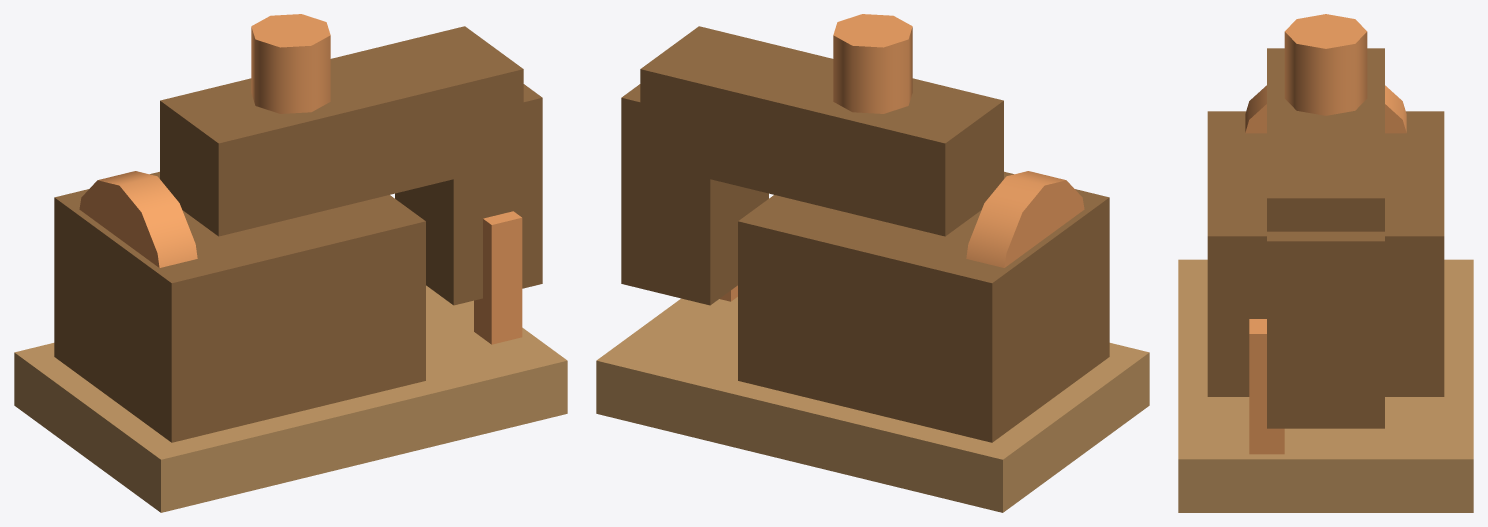
Rendered from sewing_machine.glb.
3 renders of one model, left to right at view 1: azimuth 30°, elevation 25°; view 2: azimuth 150°, elevation 25°; view 3: azimuth 270°, elevation 25°, orthographic.
Visible parts, largest first — view 1: sewing_machine; view 2: sewing_machine; view 3: sewing_machine.
Part boxes in pixels (x1,y1,x2,y2): sewing_machine: (14,14,567,512); sewing_machine: (596,14,1149,512); sewing_machine: (1178,14,1473,512).
Size of the model in its own units: 16.75 by 14.25 by 10.
